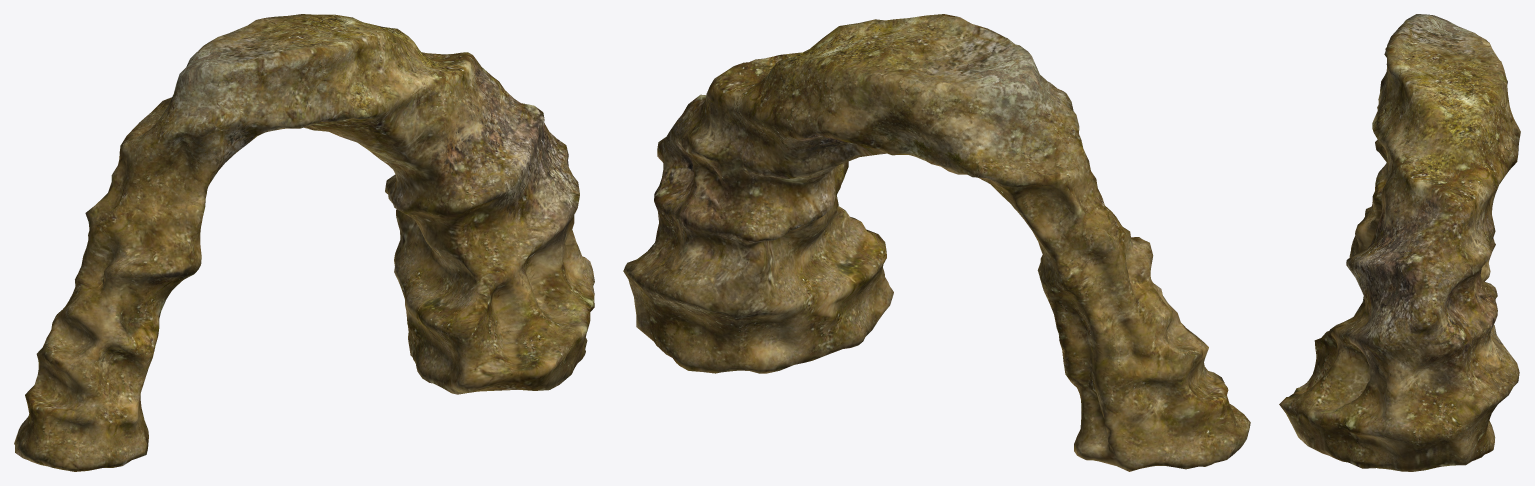
The model's file is arch1.gltf.
3 renders of one model, left to right at view 1: azimuth 30°, elevation 25°; view 2: azimuth 150°, elevation 25°; view 3: azimuth 270°, elevation 25°, orthographic. The views are drawn at different scales.
Parts seen in each view (by area): view 1: SmallArch_Obj.001; view 2: SmallArch_Obj.001; view 3: SmallArch_Obj.001.
Part boxes in pixels (left/top/right/bottom): SmallArch_Obj.001: left=14, top=14, right=594, bottom=471; SmallArch_Obj.001: left=623, top=14, right=1250, bottom=471; SmallArch_Obj.001: left=1279, top=14, right=1520, bottom=471.
Size of the model in its own units: 13.68 by 8.2 by 5.61.
1 material, 1 textured.
